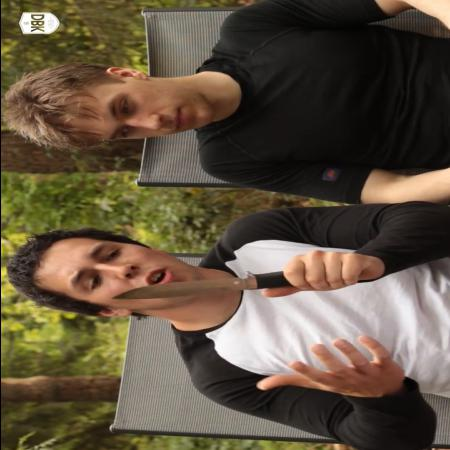long weapon: (103, 249, 369, 302)
